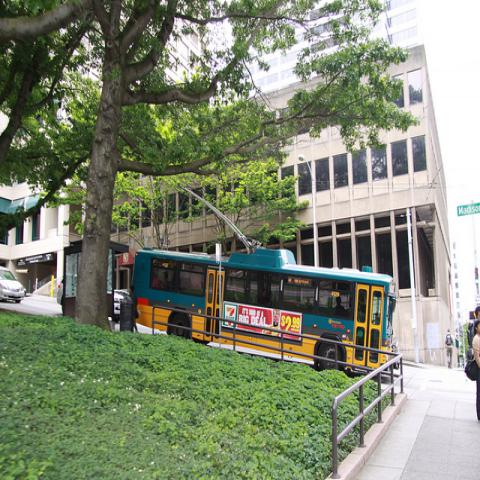bus: (130, 233, 404, 380)
car: (0, 266, 26, 304), (107, 282, 124, 323), (57, 276, 64, 313)
